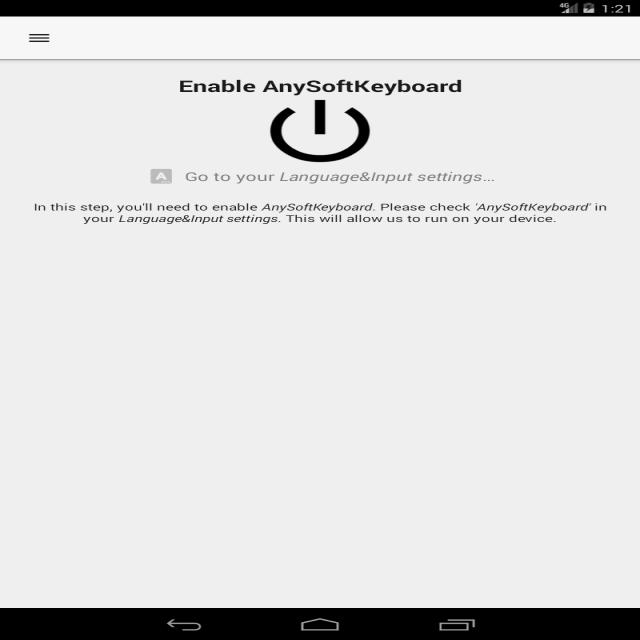ImageButton: (21, 28, 57, 48)
ImageView: (257, 99, 386, 163)
TextView: (24, 200, 615, 227), (178, 168, 491, 186), (176, 76, 466, 94)
